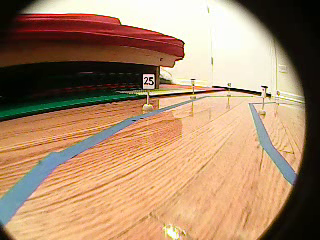Speed Limit 25: (143, 73, 155, 89)
